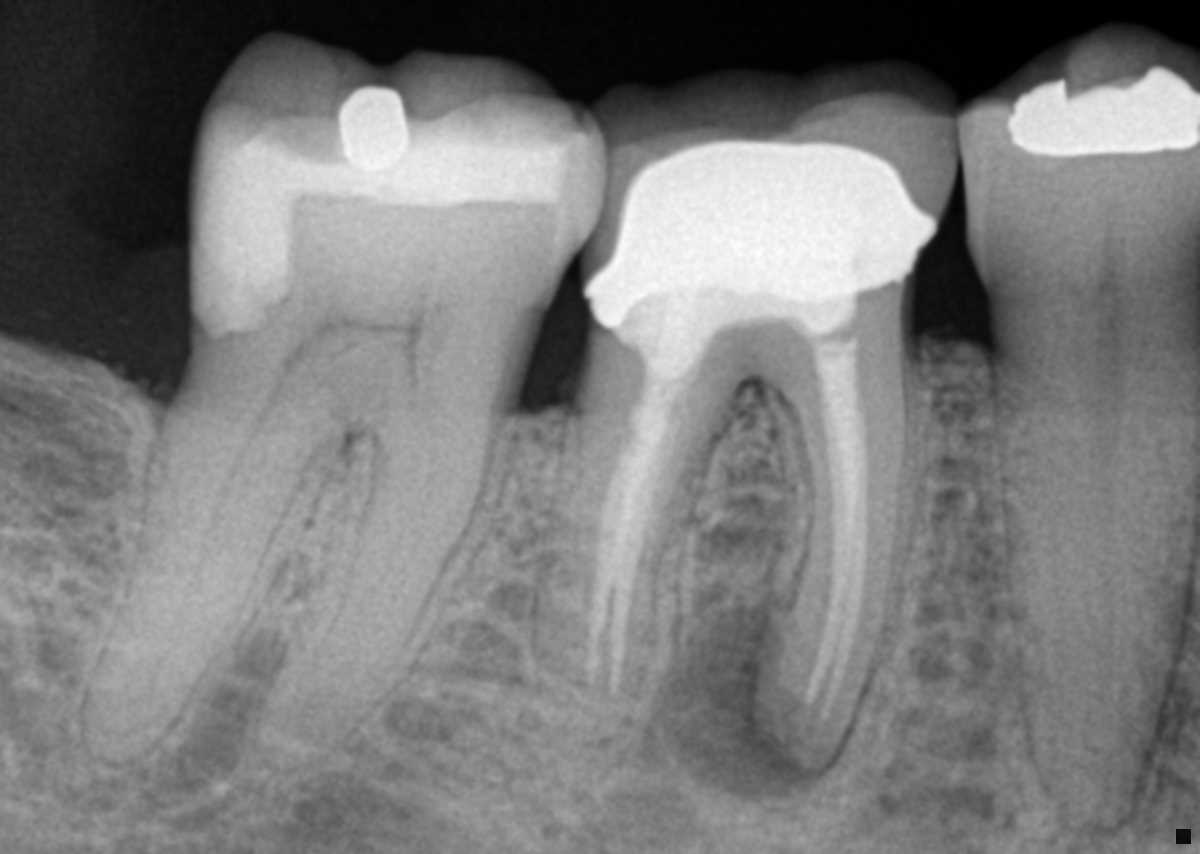Apical Lesion: (658, 608, 804, 808)
Distal Canal: (166, 416, 269, 657)
Distal Root: (87, 407, 332, 763), (532, 402, 731, 698)
Main Canal: (1089, 351, 1124, 667)
Main Root: (992, 341, 1200, 827)
Mesial Canal: (379, 449, 439, 597)
Mesial Root: (260, 423, 502, 765), (754, 364, 915, 780)
Root Canal Filling: (587, 368, 691, 694), (805, 340, 870, 718)
